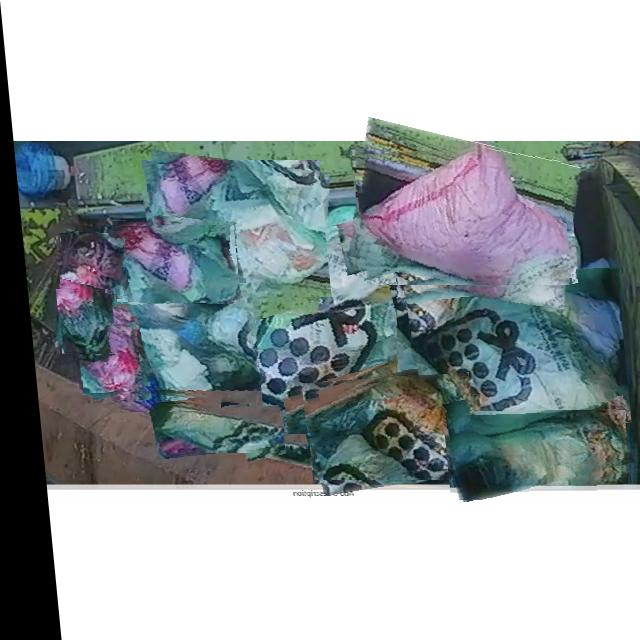general_trashbag: (210, 226, 421, 433), (404, 275, 623, 423), (147, 165, 322, 297), (92, 284, 251, 399), (297, 376, 467, 479), (437, 410, 619, 500), (104, 226, 232, 304), (142, 411, 275, 452), (53, 291, 105, 354)
other_trashbag: (353, 147, 564, 285), (68, 326, 132, 392), (55, 233, 118, 295)
